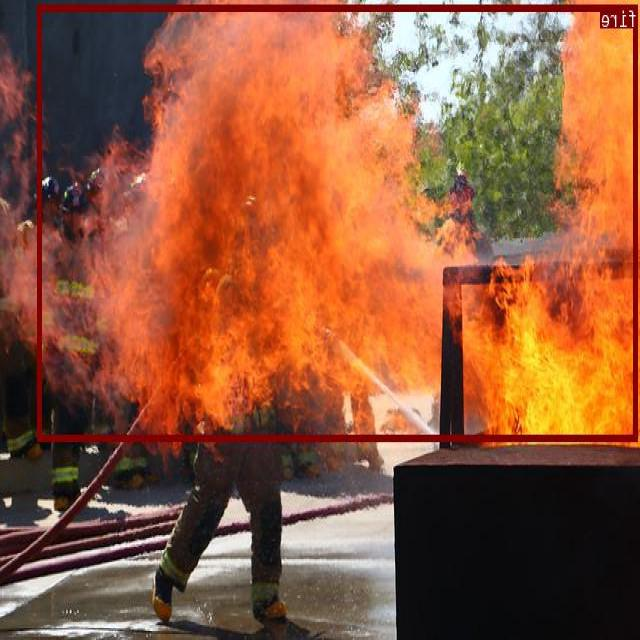fire: (39, 3, 638, 440)
